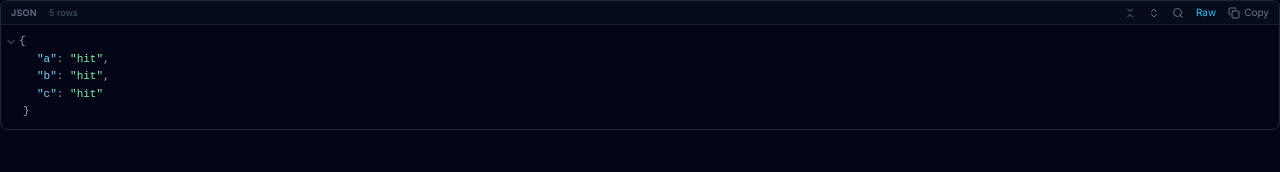
Test: ValueView: find › steps between matches
Click the button titled "Find in this value": (1178,12) [1172,6,1184,18]
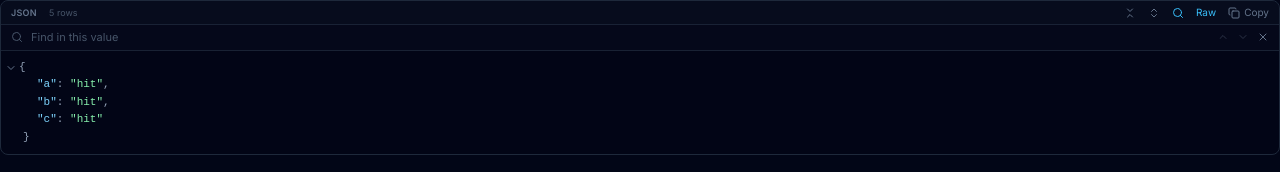
In the field labelled "Find in this value": (616,37) [31,29,1201,46], type "hit"
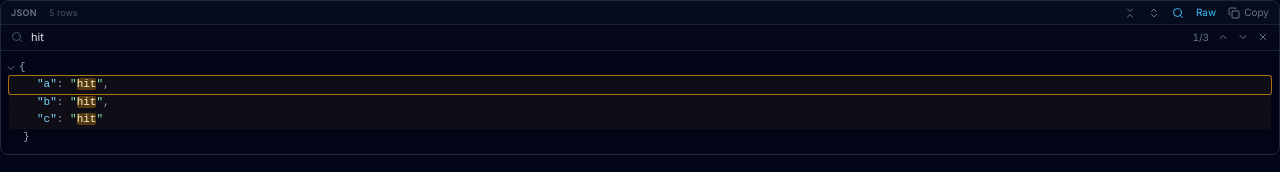
Now the text "1/3" is shown, box [1192,30,1209,45]
Click the button named "Next match": (1243,37) [1237,31,1249,43]
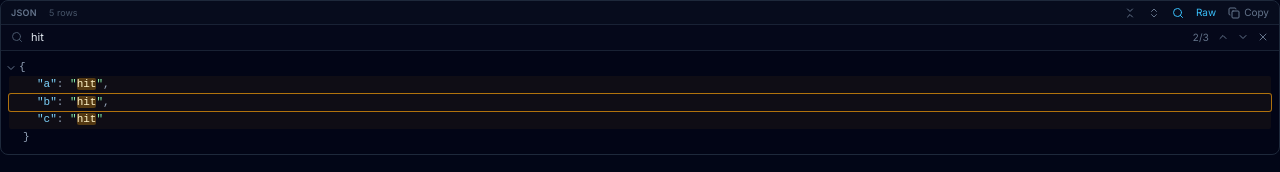
Now the text "2/3" is shown, box [1192,30,1209,45]
Click the button named "Previous match": (1223,37) [1217,31,1229,43]
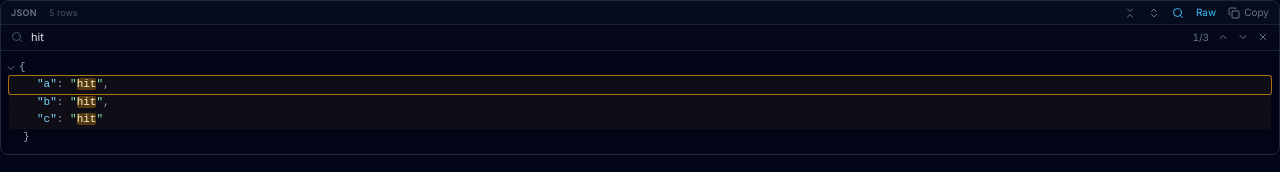
Now the text "1/3" is shown, box [1192,30,1209,45]
